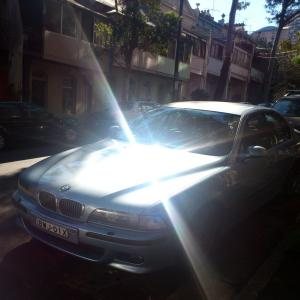Vehicle-registration-plate: (36, 220, 70, 239)
